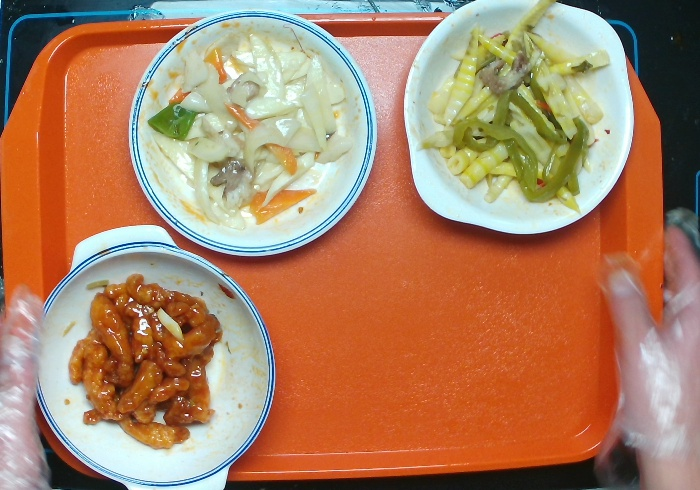HZYJPL-Dai_Er_Bai_Yuan_Wan: (399, 1, 637, 236)
HZYJPL-Lan_Bian_Dai_Er_Wan: (30, 222, 278, 490)
HZYJPL-Lan_Bian_Yuan_Die: (123, 6, 380, 260)
